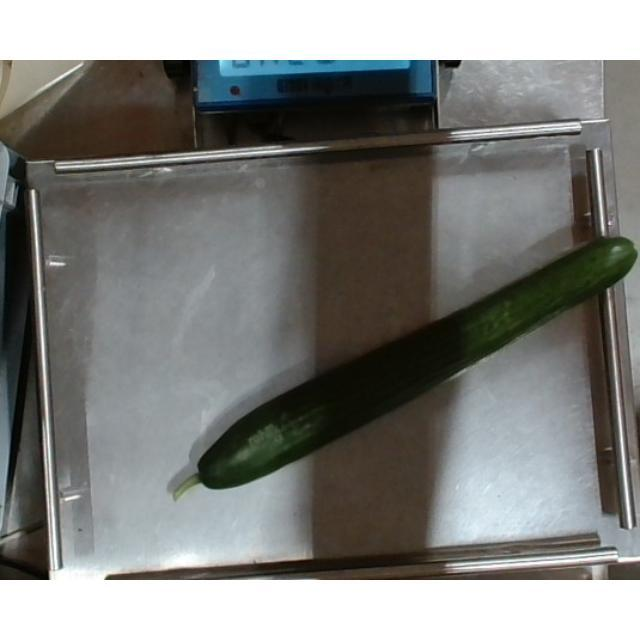cucumber: (172, 233, 640, 501)
